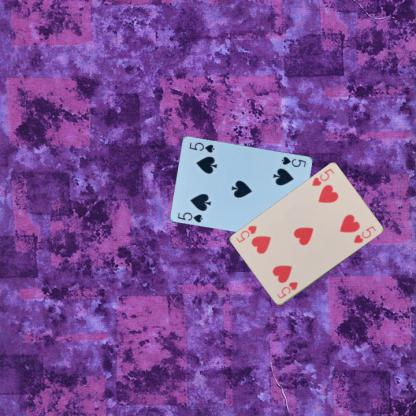5h: (309, 166, 335, 188), (274, 279, 299, 301)
5s: (176, 209, 204, 224), (279, 154, 307, 168)
